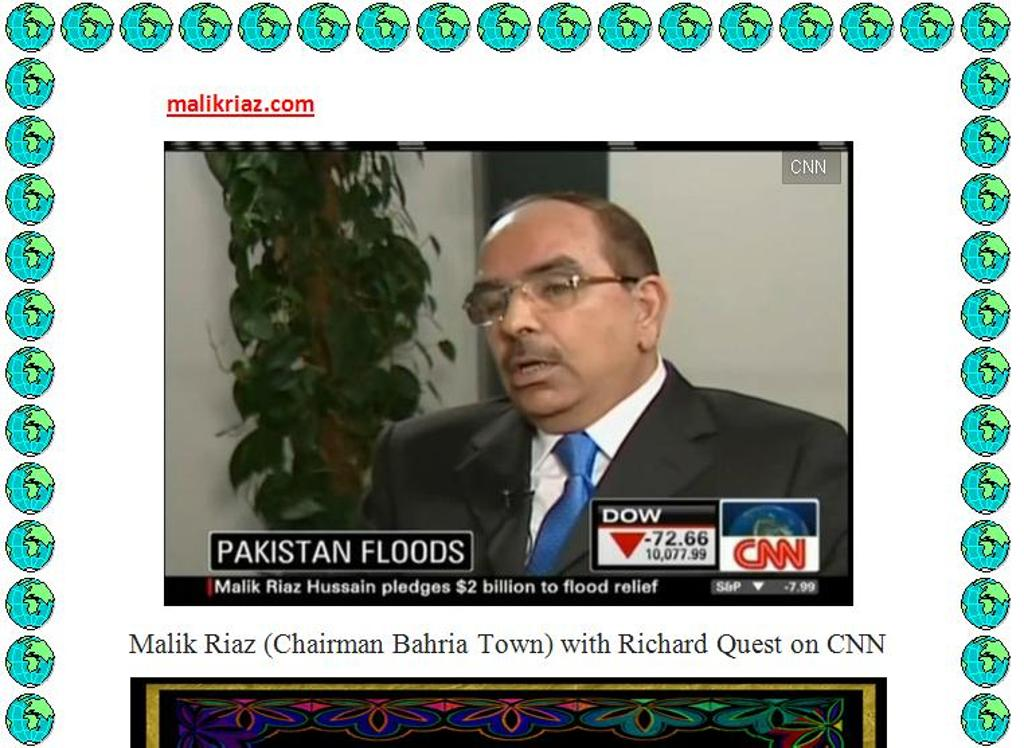face: (482, 216, 636, 414)
